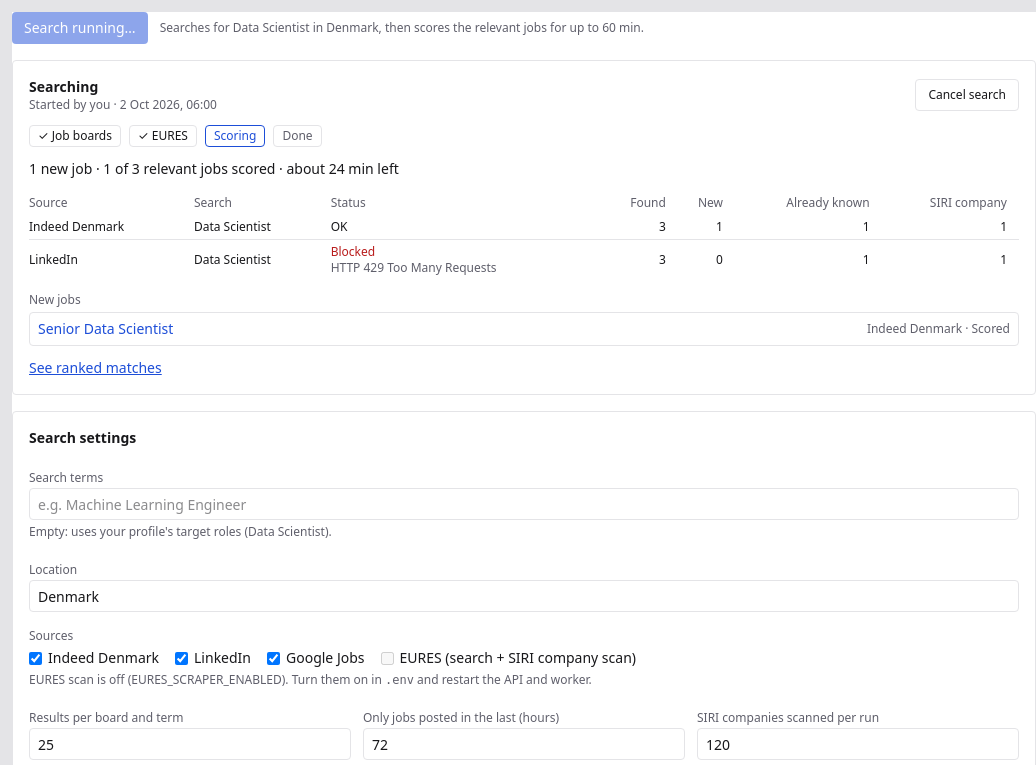
it: DiscoverView › shows live progress, blocked sources and scoring results
expect the heading "Searching" is shown: met, box [29,77,98,96]
expect the text "1 new job · 1 of 3 relevant jobs scored · about 24 min left" is shown: met, box [29,159,399,178]
Click the button "Cancel search".
click(967, 95)  # box [915,79,1019,111]
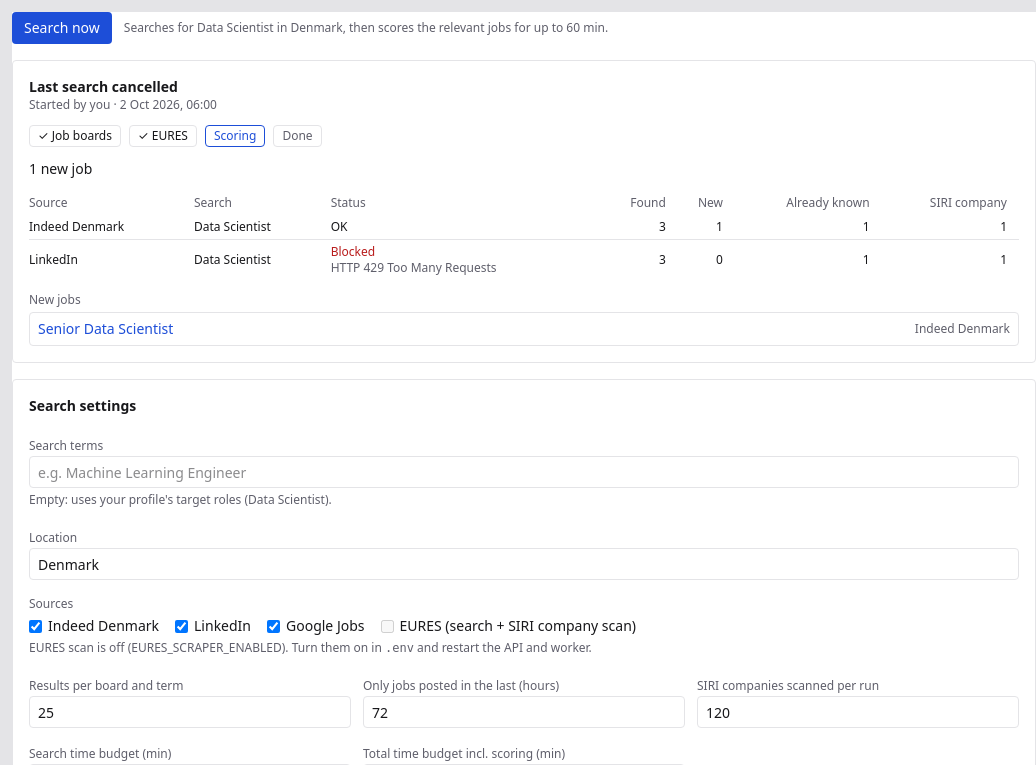
expect the heading "Last search cancelled" is shown: met, box [29,77,178,96]
